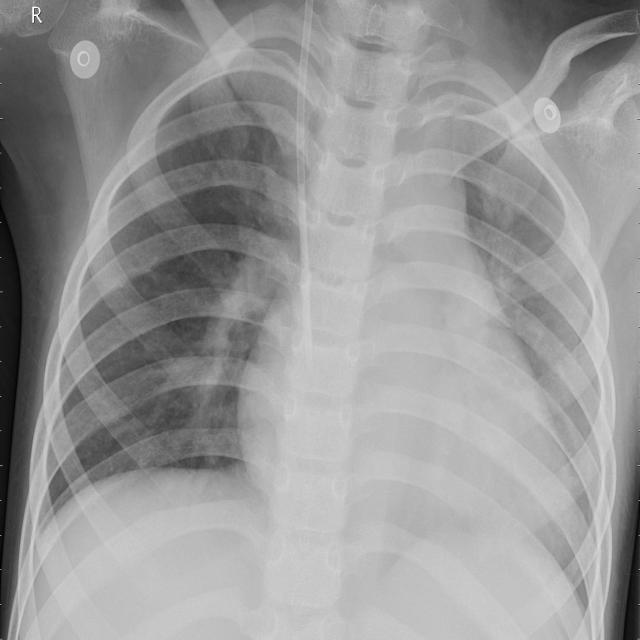low-pneumonia: (160, 227, 296, 435), (483, 214, 536, 337)
